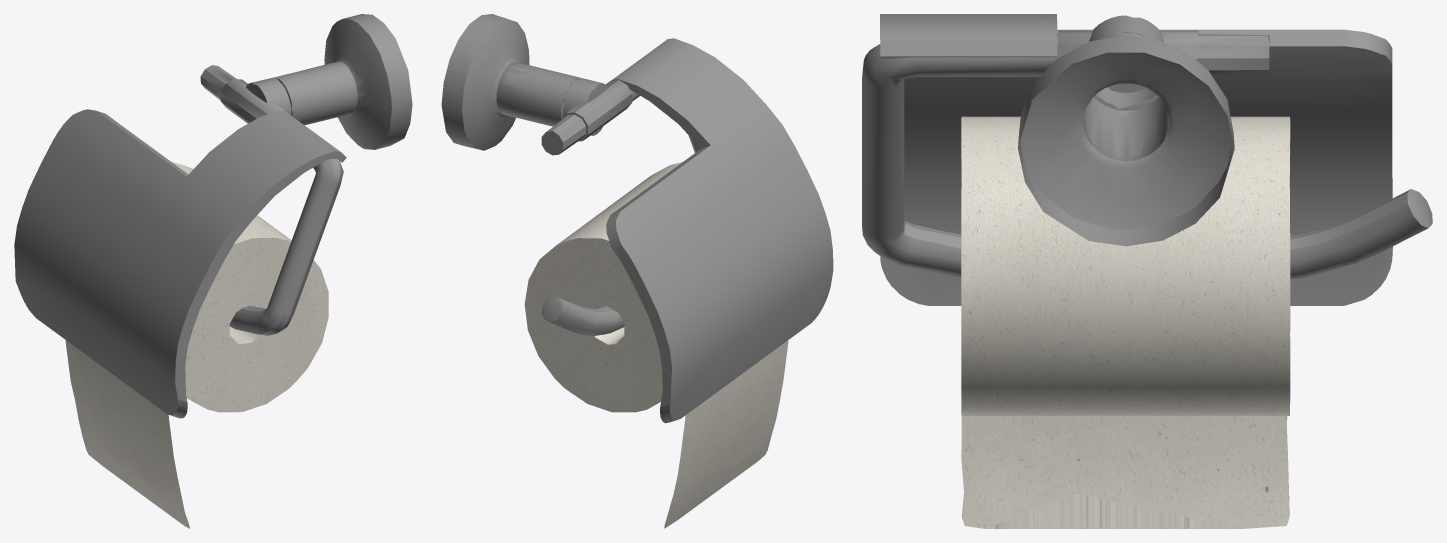
File: Paper holderReduced.fbx
The picture shows the model from 3 angles, left to right: view 1: azimuth 30°, elevation 25°; view 2: azimuth 150°, elevation 25°; view 3: azimuth 270°, elevation 25°; orthographic projection. The views are drawn at different scales.
Parts seen in each view (by area): view 1: Paper holder; view 2: Paper holder; view 3: Paper holder.
Part boxes in pixels (box(x1,y1,x2,y2)): Paper holder: box(14, 14, 412, 528); Paper holder: box(441, 14, 833, 528); Paper holder: box(862, 14, 1432, 528).
Size of the model in its own units: 154 by 218 by 170.
2 materials, 1 textured.
